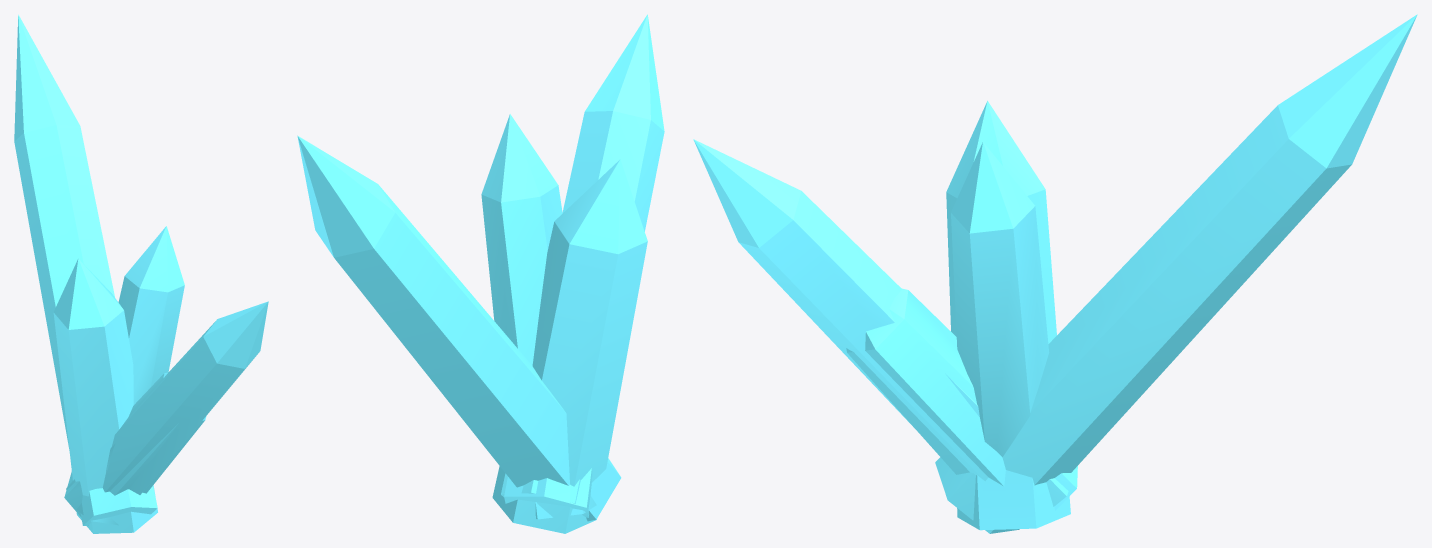
The model's file is obj_deco_cristales_2.glb.
3 views of the same model, side by side, from view 1: azimuth 30°, elevation 25°; view 2: azimuth 150°, elevation 25°; view 3: azimuth 270°, elevation 25° (orthographic). The views are drawn at different scales.
Parts seen in each view (by area): view 1: propforge-libre-deco_cristales; view 2: propforge-libre-deco_cristales; view 3: propforge-libre-deco_cristales.
Boxes of the visible parts, box(x1,y1,x2,y2) form: propforge-libre-deco_cristales: box(14, 14, 268, 533); propforge-libre-deco_cristales: box(297, 14, 664, 533); propforge-libre-deco_cristales: box(693, 14, 1417, 533).
Bounding box in the file's own units: 0.1836 × 0.5389 × 0.6423.
